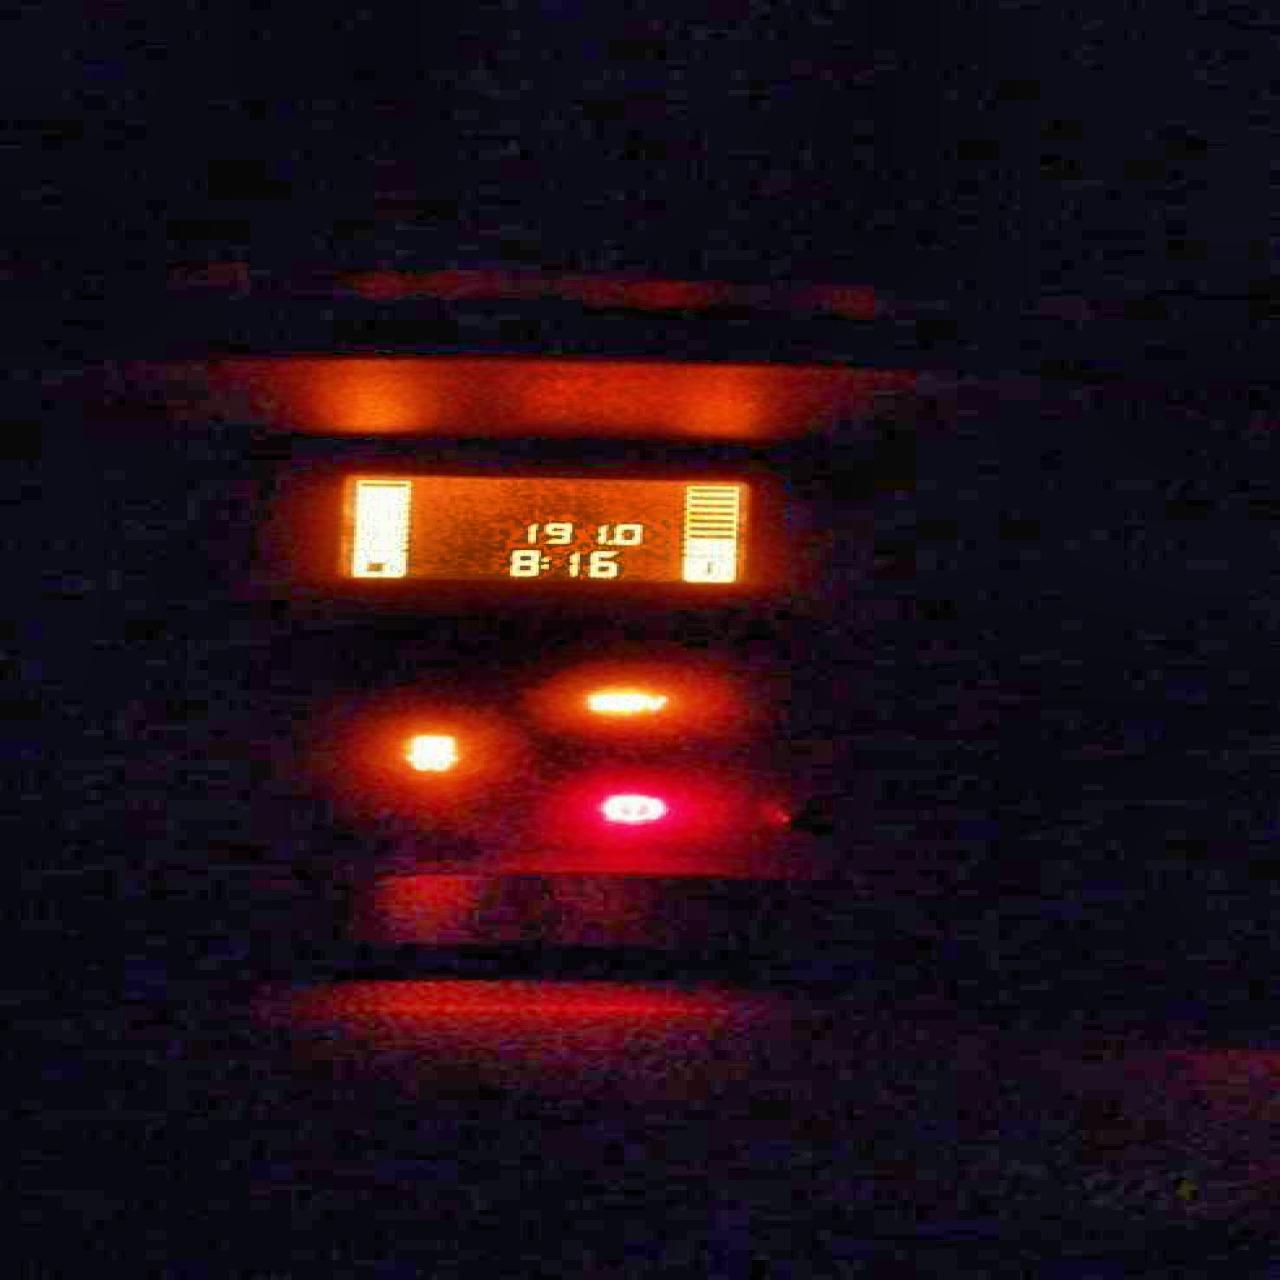-: (604, 538, 612, 546)
0: (614, 520, 642, 545)
1: (565, 549, 580, 579), (523, 522, 536, 544), (595, 522, 606, 544)
6: (586, 549, 620, 579)
8: (508, 546, 538, 576)
9: (542, 520, 572, 544)
X: (538, 554, 551, 570)
odometer: (315, 468, 765, 588)
